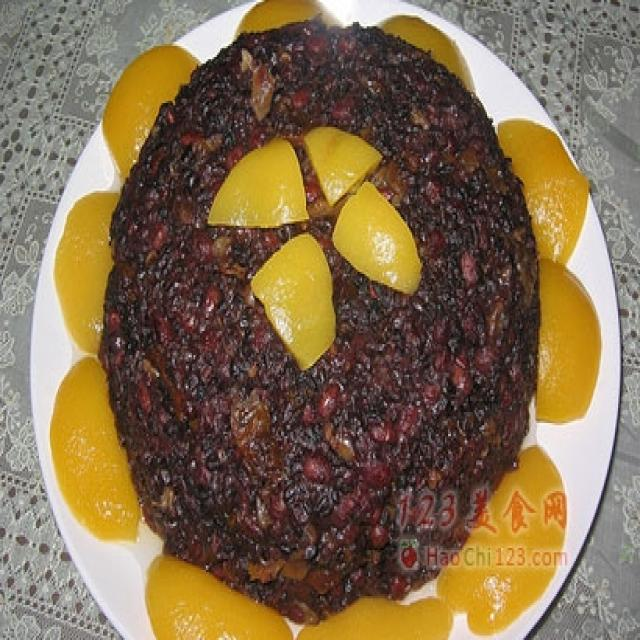米饭主食: (47, 13, 598, 623)
